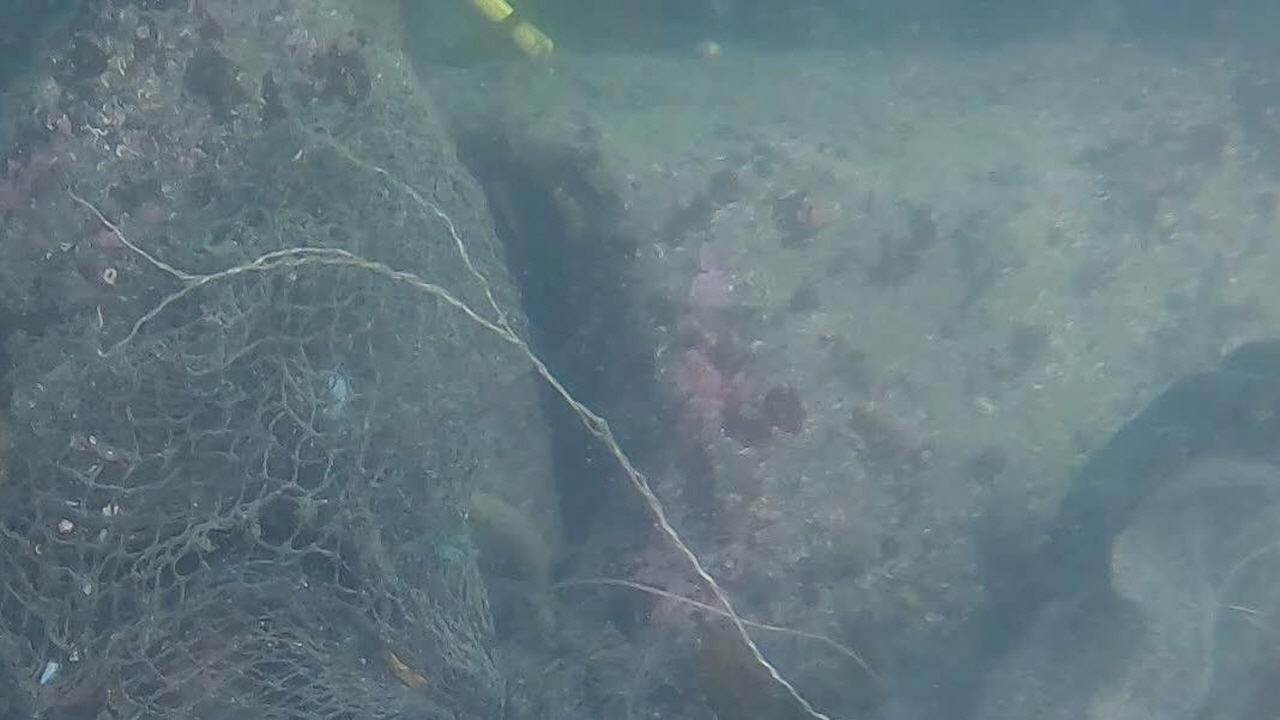fish net: (0, 97, 520, 718)
